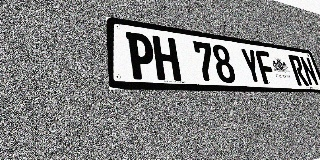7: (191, 41, 218, 82)
8: (211, 44, 237, 83)
F: (254, 50, 278, 85)
H: (152, 35, 181, 81)
N: (299, 56, 320, 86)
P: (126, 32, 157, 80)
R: (288, 54, 309, 86)
Y: (239, 48, 264, 84)
